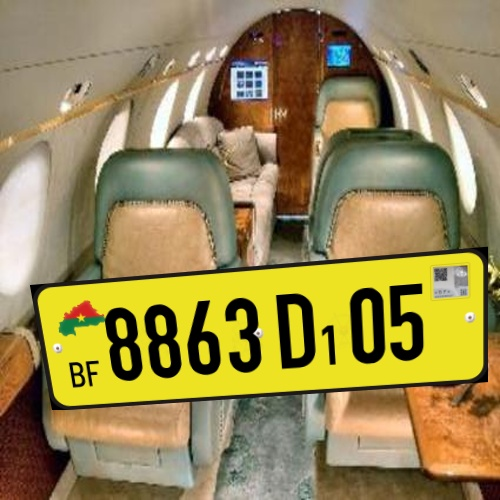plate: (15, 231, 492, 426)
